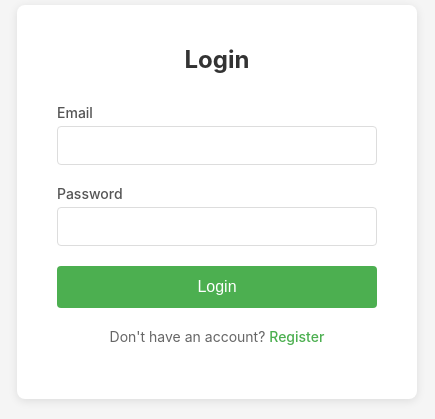
Test: Login Page › should disable form during login
Type "test@test.com" into the field labelled "Email" at (217, 146), box [57, 126, 377, 165]
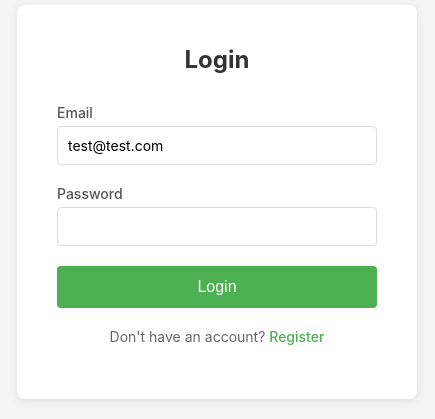
Type "password" into the password field labelled "Password" at (217, 226), box [57, 207, 377, 246]
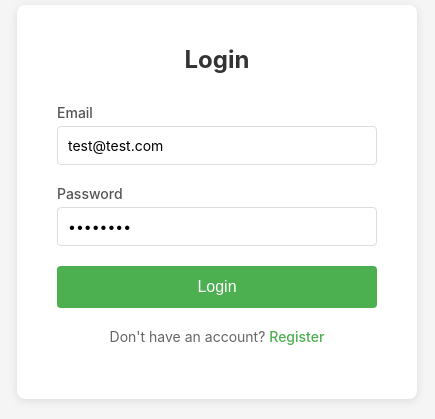
Click the button "Login" at (217, 287), box [57, 266, 377, 308]
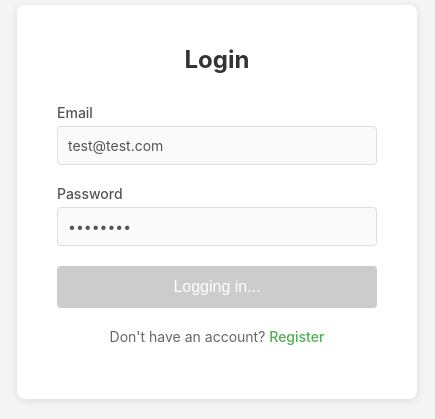
Result: the field labelled "Email" is disabled at [57, 126, 377, 165]
Result: the password field labelled "Password" is disabled at [57, 207, 377, 246]
Result: the button is disabled at [57, 266, 377, 308]
